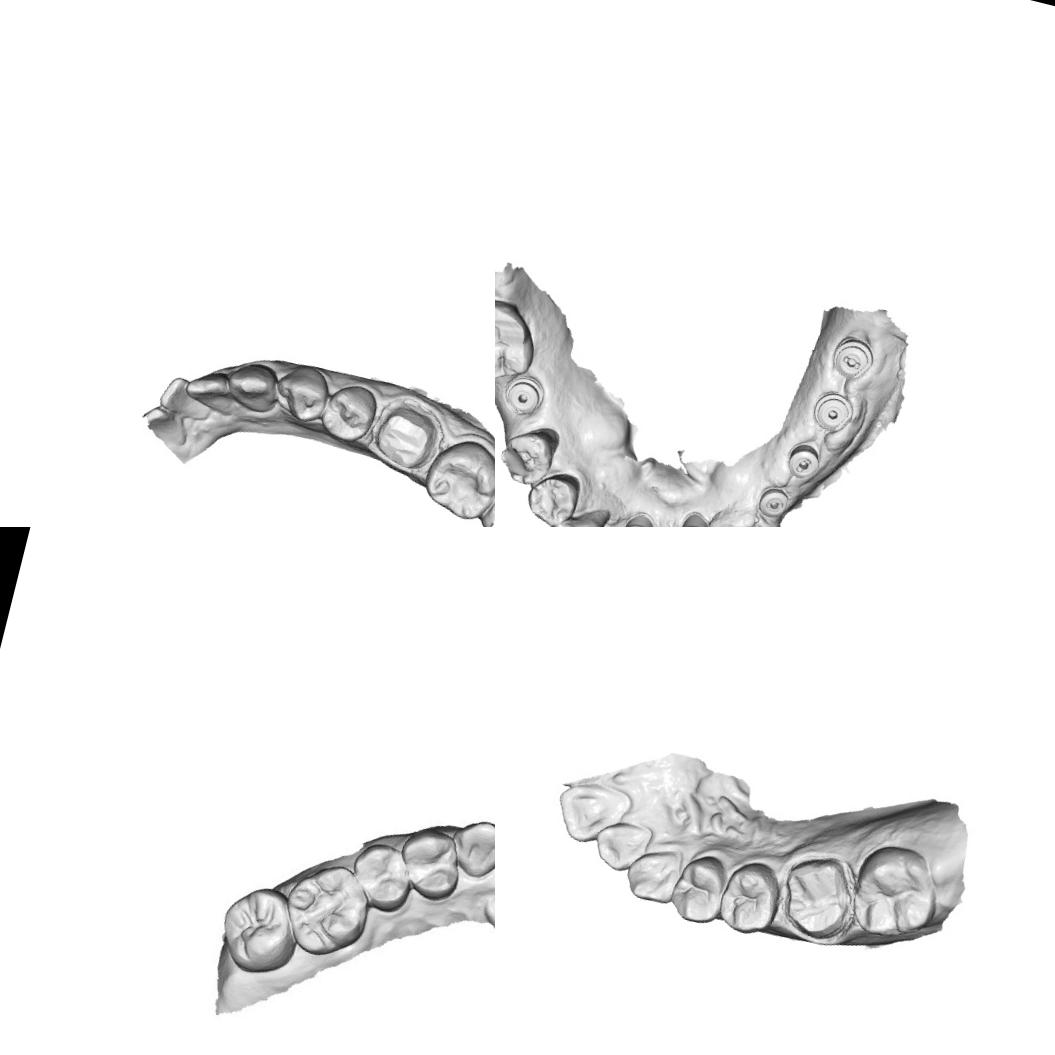canine: (620, 839, 686, 906), (221, 356, 287, 418), (443, 809, 495, 884), (539, 498, 610, 527)
crown: (768, 842, 865, 946), (367, 394, 448, 476)
implant: (808, 387, 858, 437), (499, 371, 548, 418)
implant_minus: (826, 332, 878, 384), (782, 440, 825, 484), (754, 483, 790, 520), (673, 508, 715, 527), (616, 509, 657, 527)
incisor: (548, 774, 637, 852), (586, 814, 654, 877), (180, 363, 243, 418), (156, 372, 218, 424)
molar: (842, 835, 946, 946), (278, 858, 381, 966), (208, 880, 308, 981), (416, 429, 495, 527), (495, 289, 545, 389)
premolar: (390, 819, 470, 908), (338, 834, 422, 918), (712, 853, 788, 939), (664, 846, 734, 929), (495, 415, 563, 491), (316, 376, 387, 448), (268, 358, 338, 428), (520, 463, 584, 527)
